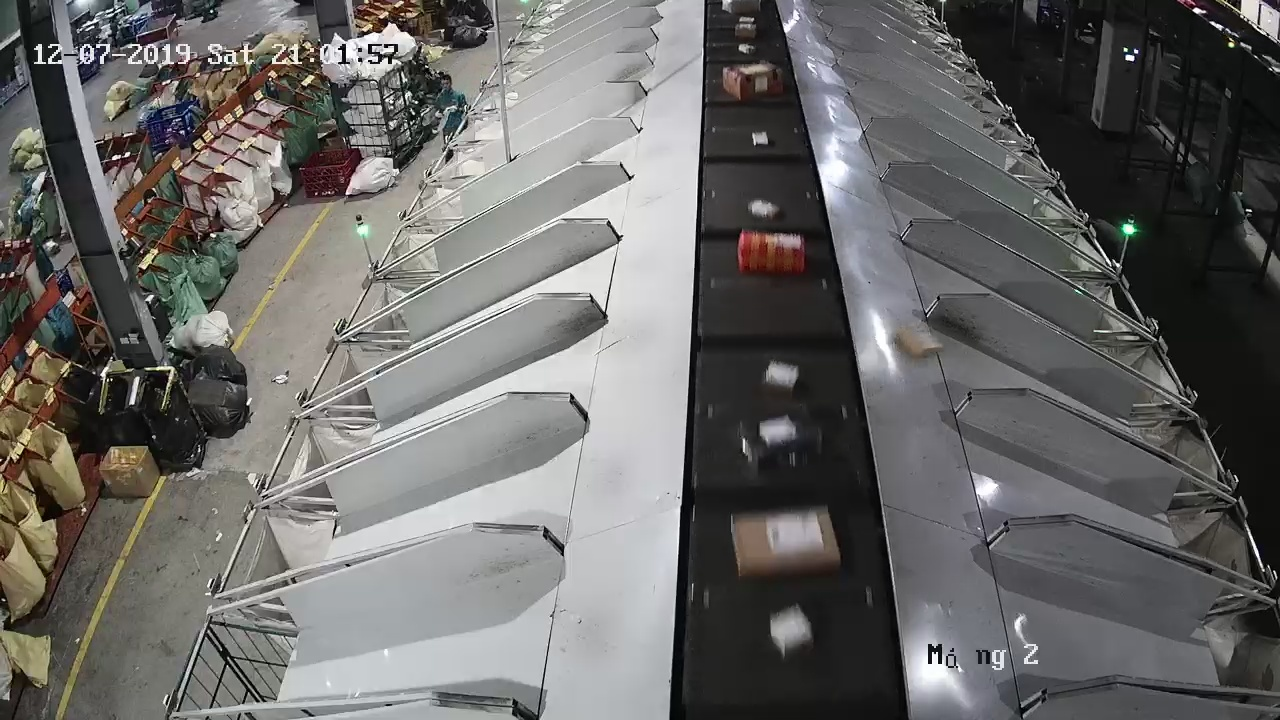parcel: (894, 320, 944, 360)
